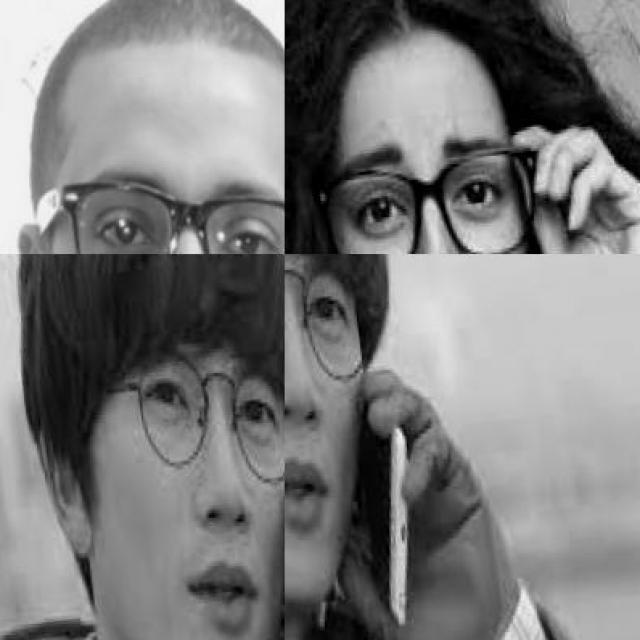Glasses: (302, 122, 571, 253), (114, 341, 283, 503), (42, 142, 283, 252), (285, 254, 389, 400)
